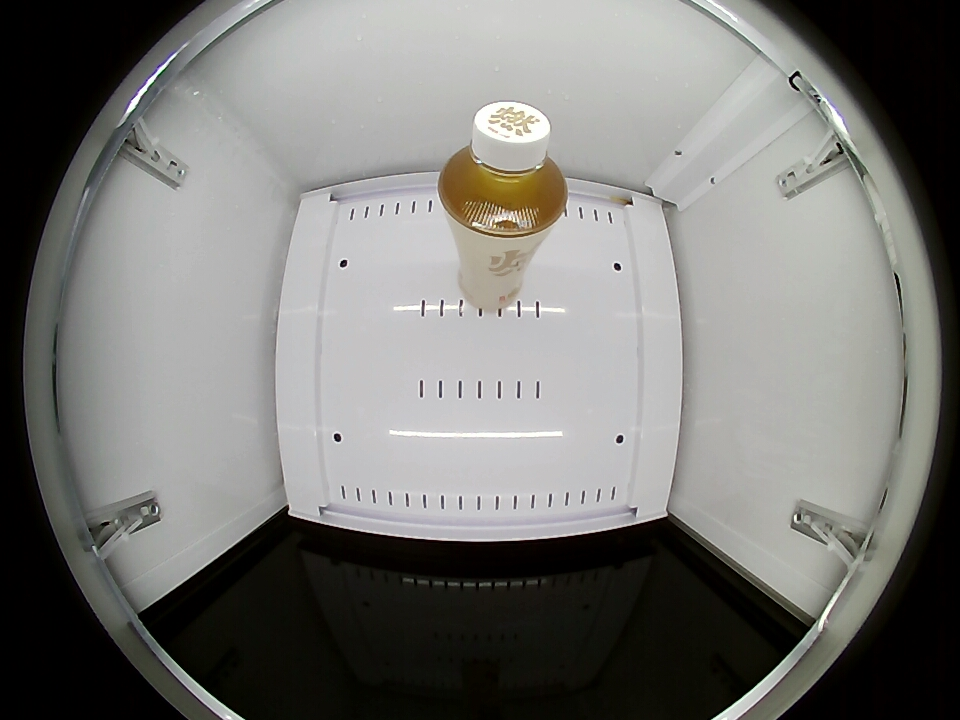rancha-2: (438, 101, 567, 238)
